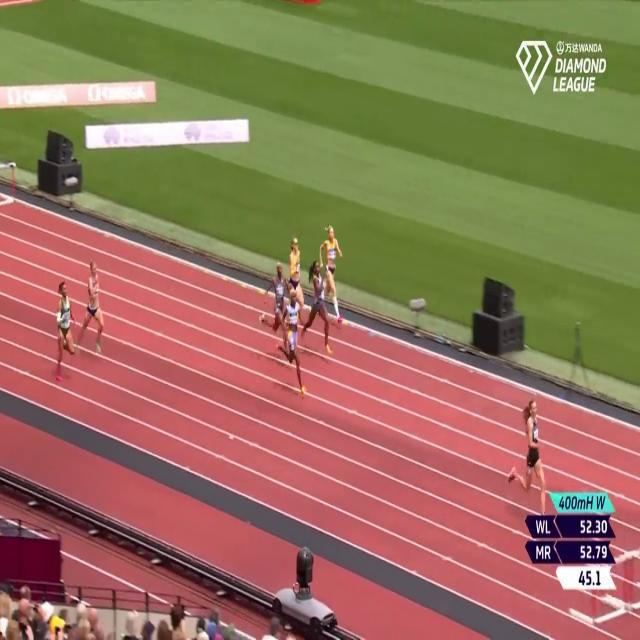athlete: (510, 389, 556, 532), (278, 287, 310, 407), (316, 215, 348, 333), (77, 252, 110, 364), (259, 256, 290, 357), (305, 262, 335, 362), (51, 269, 76, 388), (284, 227, 308, 331)
